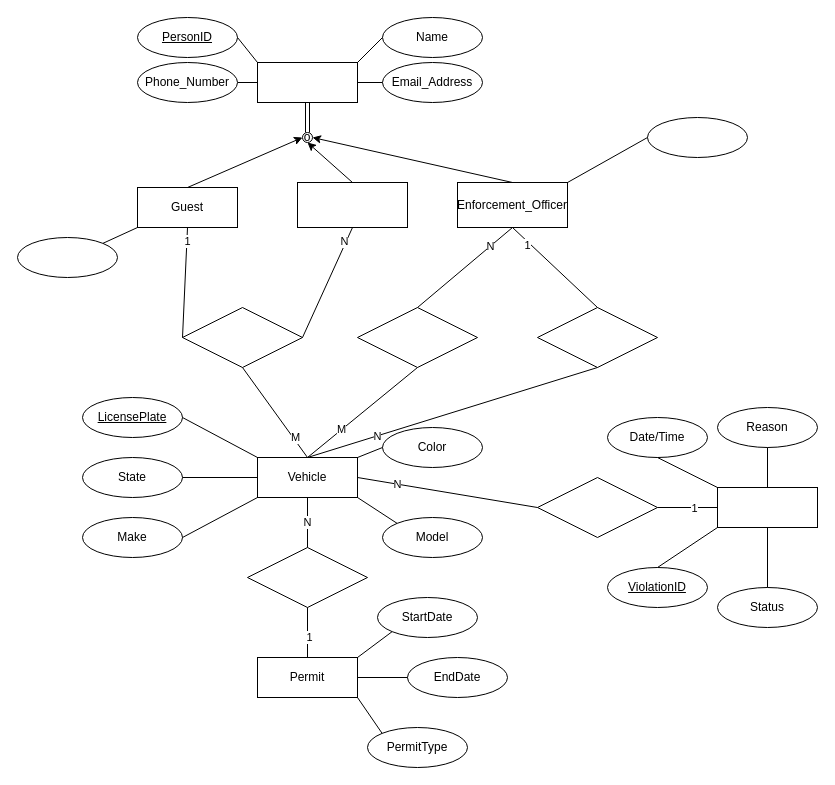
Image size: 835x785. Some labels were removed from this diagram. Here are the shapes that lost their labels. From the top down, the box of each, then its label:
(256, 62, 358, 102): Person
(646, 116, 748, 158): BadgeNumber
(296, 182, 408, 228): Owner
(16, 236, 118, 278): Visit_Reason
(182, 306, 302, 368): owns
(356, 306, 478, 368): validates
(536, 306, 658, 368): violates
(536, 476, 658, 538): issued_against
(716, 486, 818, 528): Violation
(246, 546, 368, 608): registered_to
